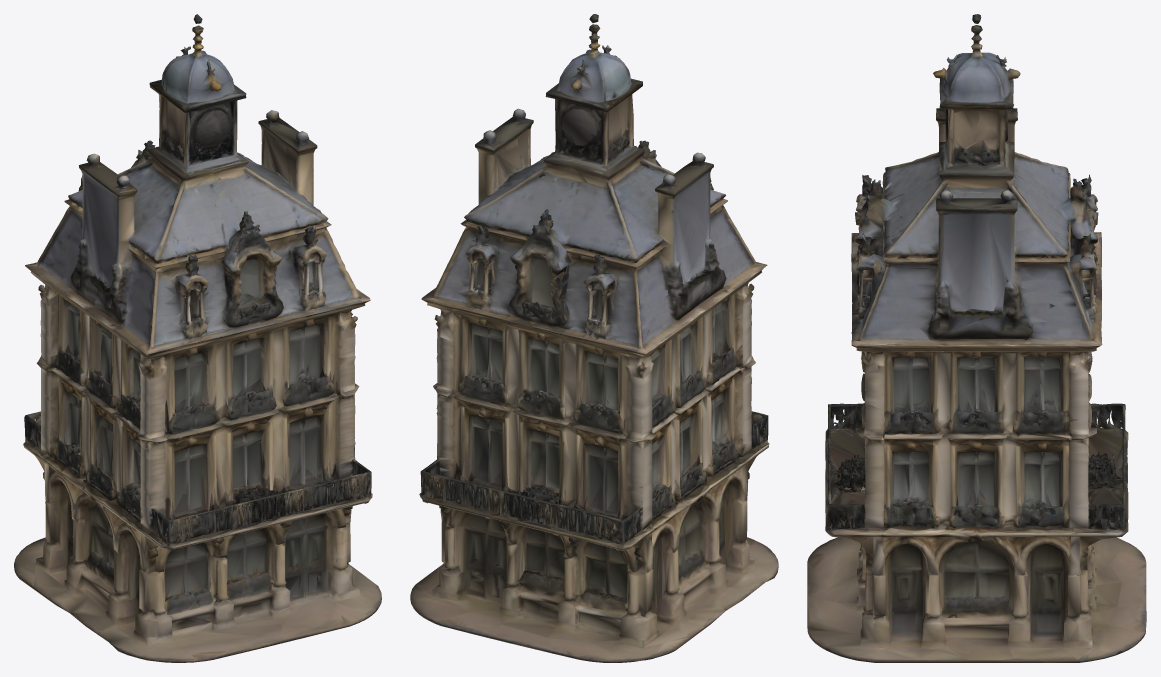
The model's file is A_parisian_building.glb.
3 renders of one model, left to right at view 1: azimuth 30°, elevation 25°; view 2: azimuth 150°, elevation 25°; view 3: azimuth 270°, elevation 25°, orthographic. The views are drawn at different scales.
Visible parts, largest first — view 1: A_parisian_building; view 2: A_parisian_building; view 3: A_parisian_building.
Part boxes in pixels (x1,y1,x2,y2): A_parisian_building: (14,14,381,662); A_parisian_building: (410,14,778,662); A_parisian_building: (807,14,1146,662).
Bounding box in the file's own units: 0.9194 × 1.92 × 1.01.
1 material, 1 textured.
